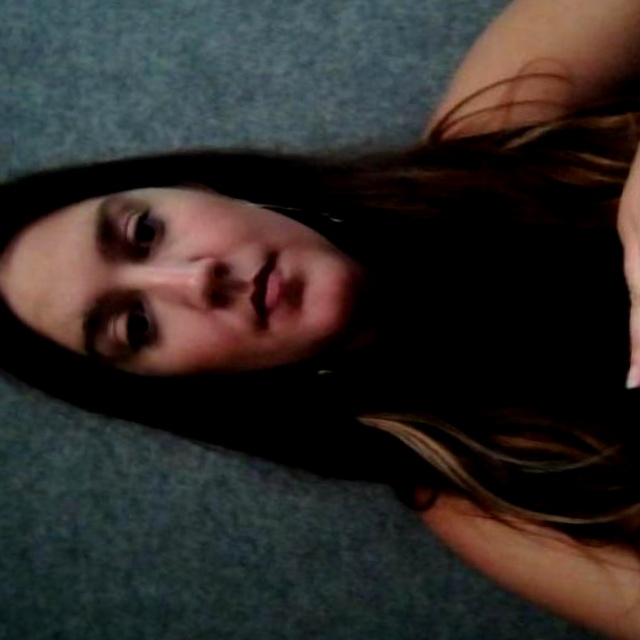Paper: (551, 46, 640, 413)
